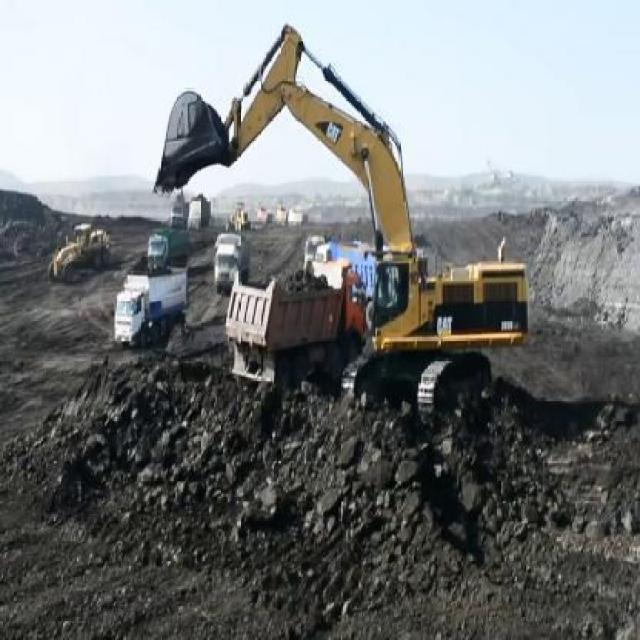dump_truck: (228, 261, 364, 394), (112, 268, 193, 352), (208, 235, 252, 290), (187, 194, 211, 231)
excavator: (152, 15, 530, 428)
